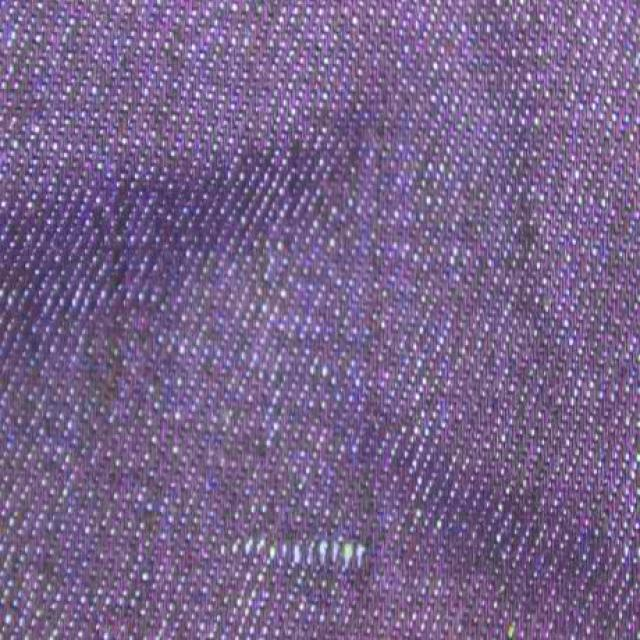Thread_other: (152, 472, 410, 620)
